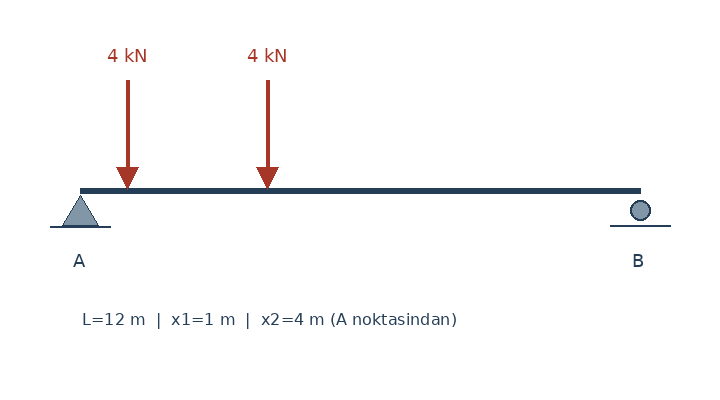pin_support: (61, 190, 99, 226)
point_load: (113, 76, 141, 190), (253, 76, 281, 190)
roller_support: (625, 196, 655, 227)
